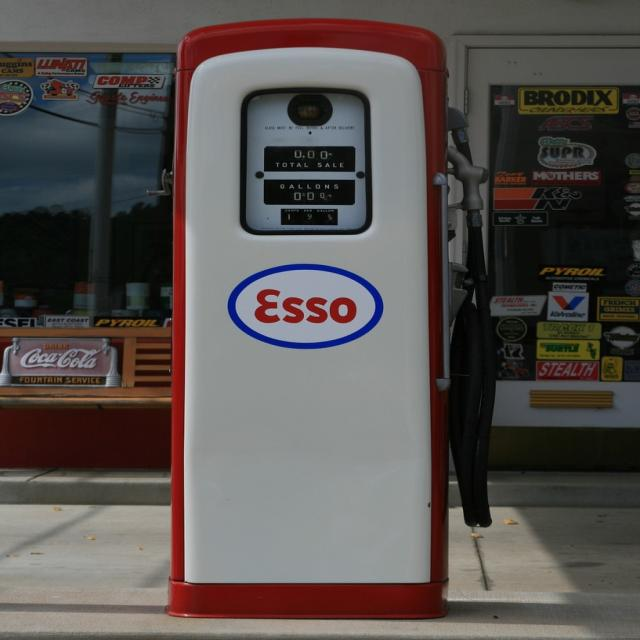esso: (222, 262, 389, 353)
